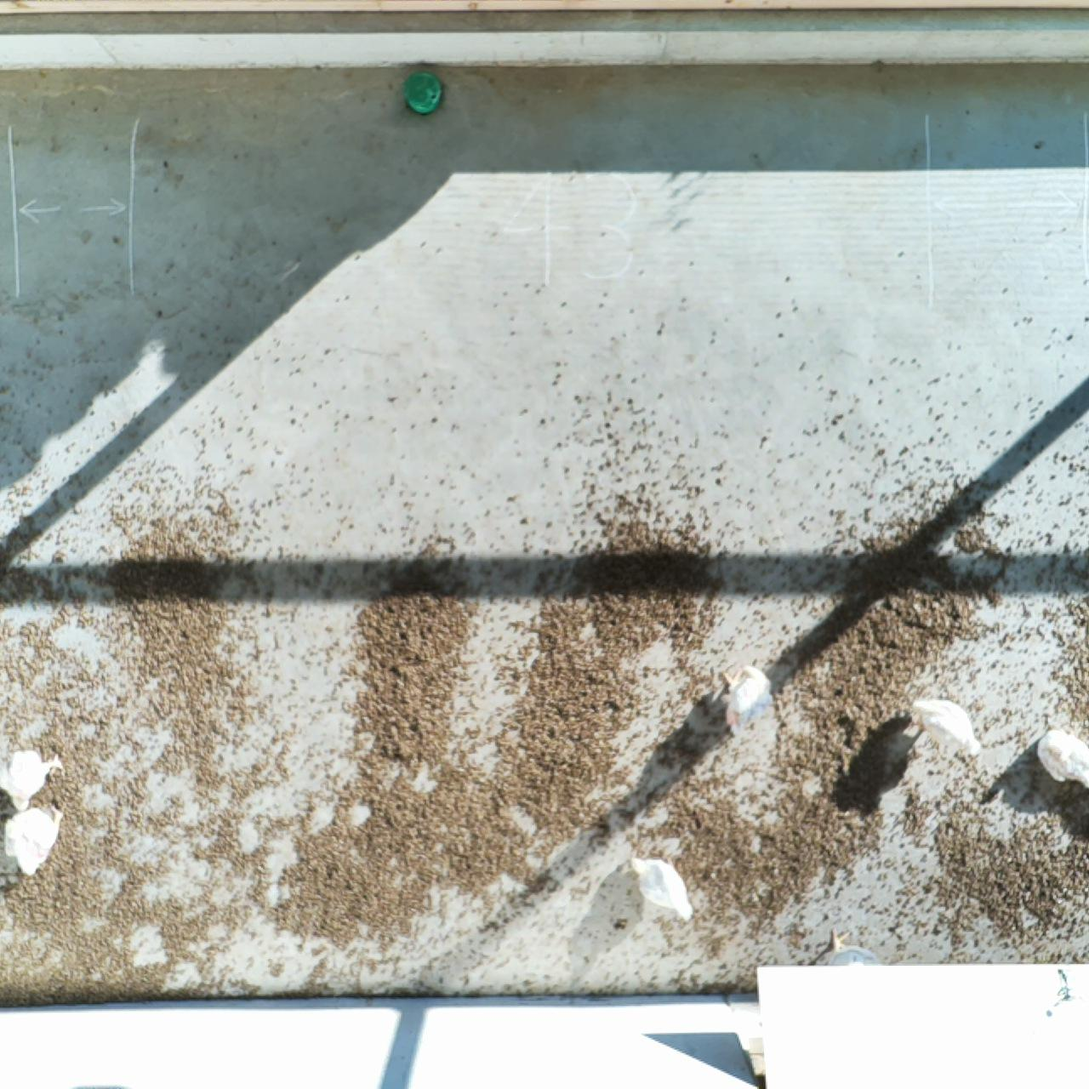chicken: (912, 697, 985, 757), (0, 749, 65, 812), (630, 856, 693, 921), (721, 664, 772, 741), (4, 808, 60, 875), (1038, 727, 1089, 788)
